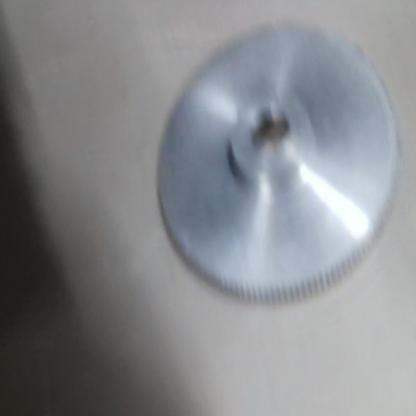FOD: (160, 11, 397, 305)
